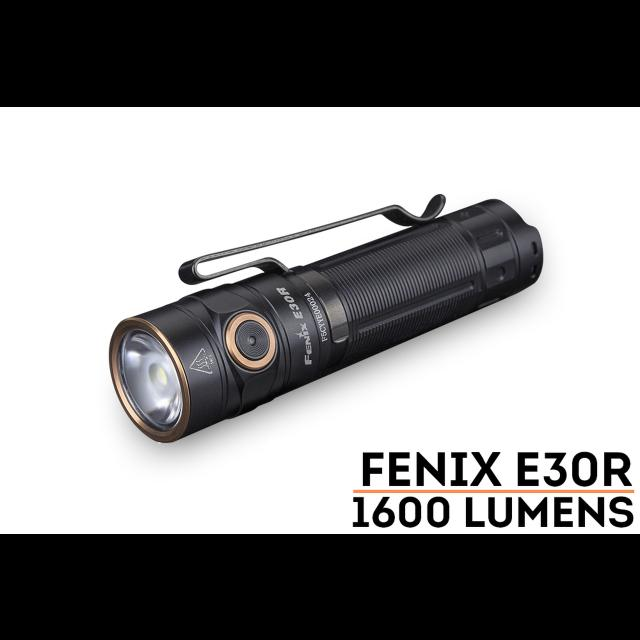Flashlight: (100, 186, 548, 448)
